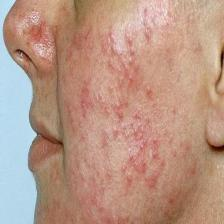Sensitif: (7, 0, 203, 223)
